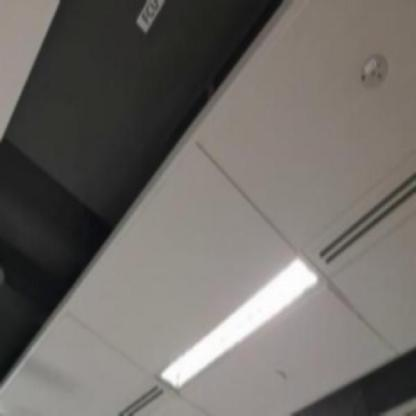light_on: (155, 237, 329, 401)
